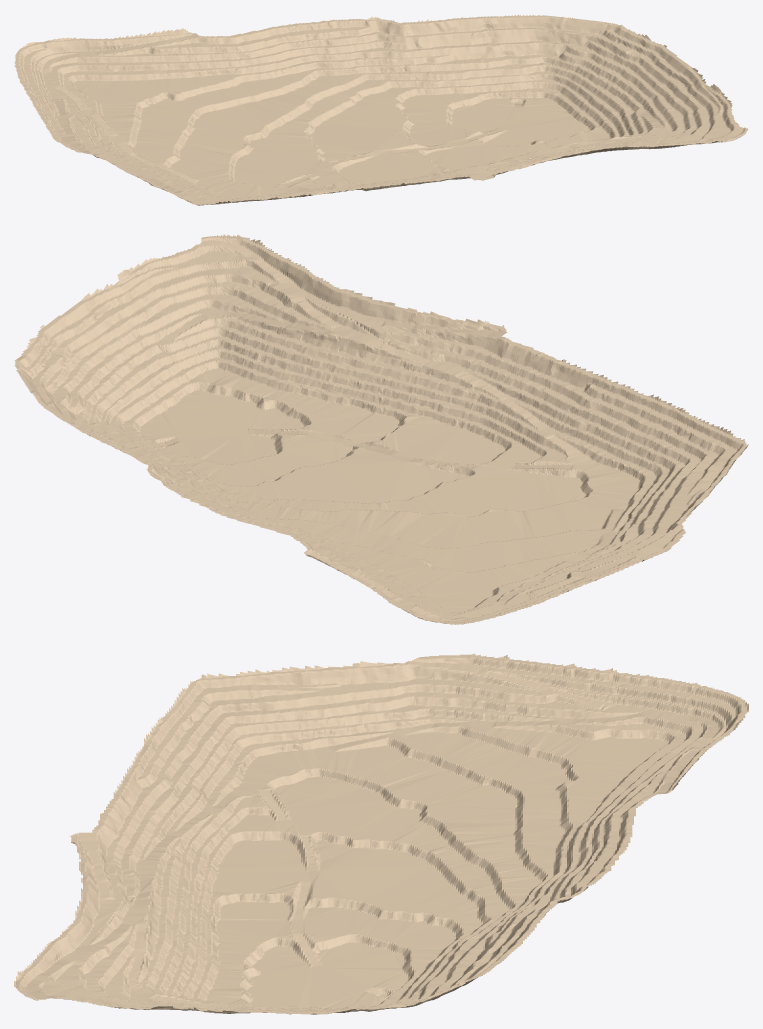
Rendered from pit_05.glb.
3 renders of one model, top to bottom at view 1: azimuth 30°, elevation 25°; view 2: azimuth 150°, elevation 25°; view 3: azimuth 270°, elevation 25°, orthographic. The views are drawn at different scales.
Bounding box in the file's own units: 2230 × 187 × 1920.
